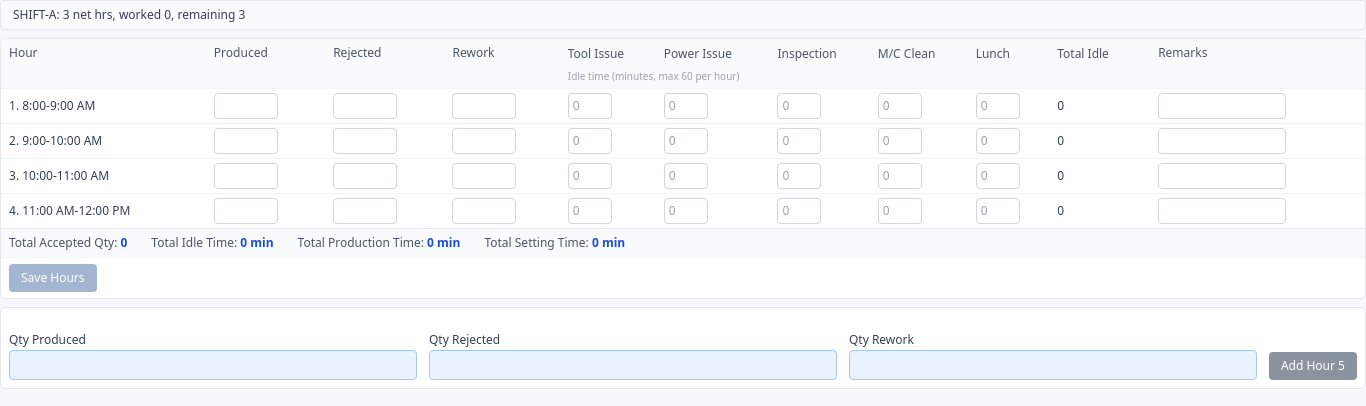
Test case: Manual Operations -- idle + Setup columns › saves only the shown idle fields; Lunch lowers the net worked hours
The image size is (1366, 406).
Later steps or results of the test are not shown.
Type "5" into the number field named "Hour 1 produced". click: coordinates (246, 106)
box: [214,93,278,119]
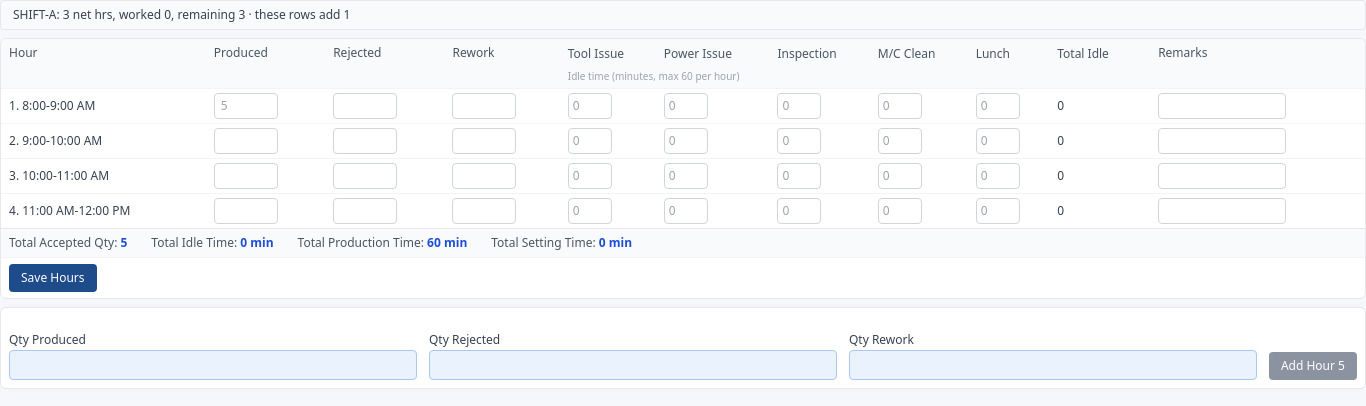
Type "15" into the number field named "Hour 1 Tool Issue". click: coordinates (590, 106)
box: [568,93,612,119]
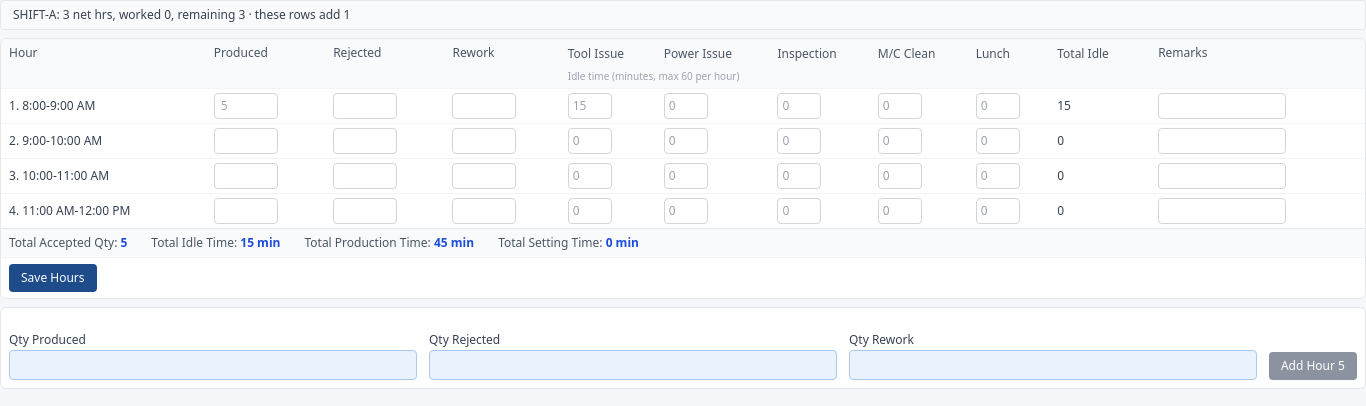
Type "30" into the number field named "Hour 1 Lunch". click: coordinates (998, 106)
box: [976,93,1020,119]
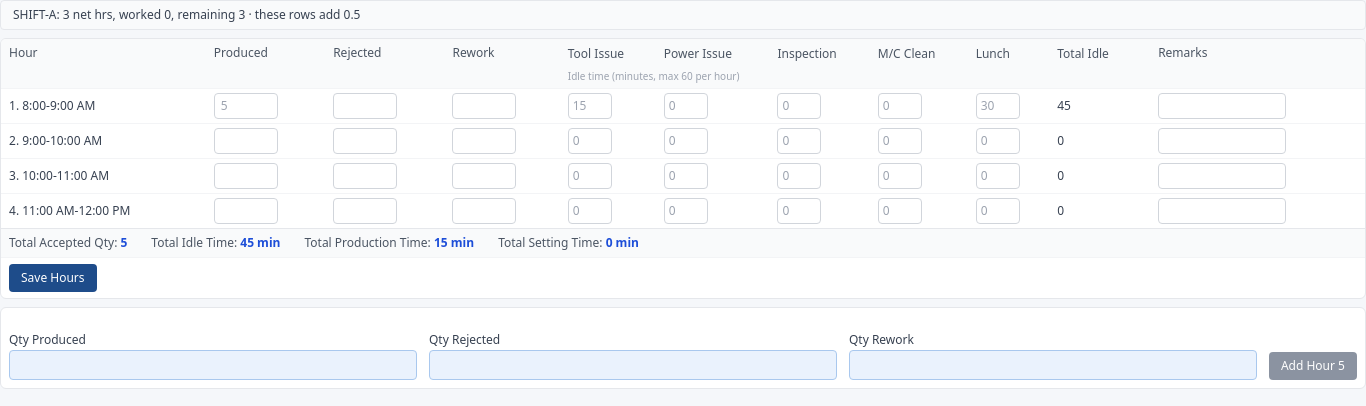
Check: the text with test id "shift-hours-banner" shows "these rows add 0.5", box [13,6,360,23]
